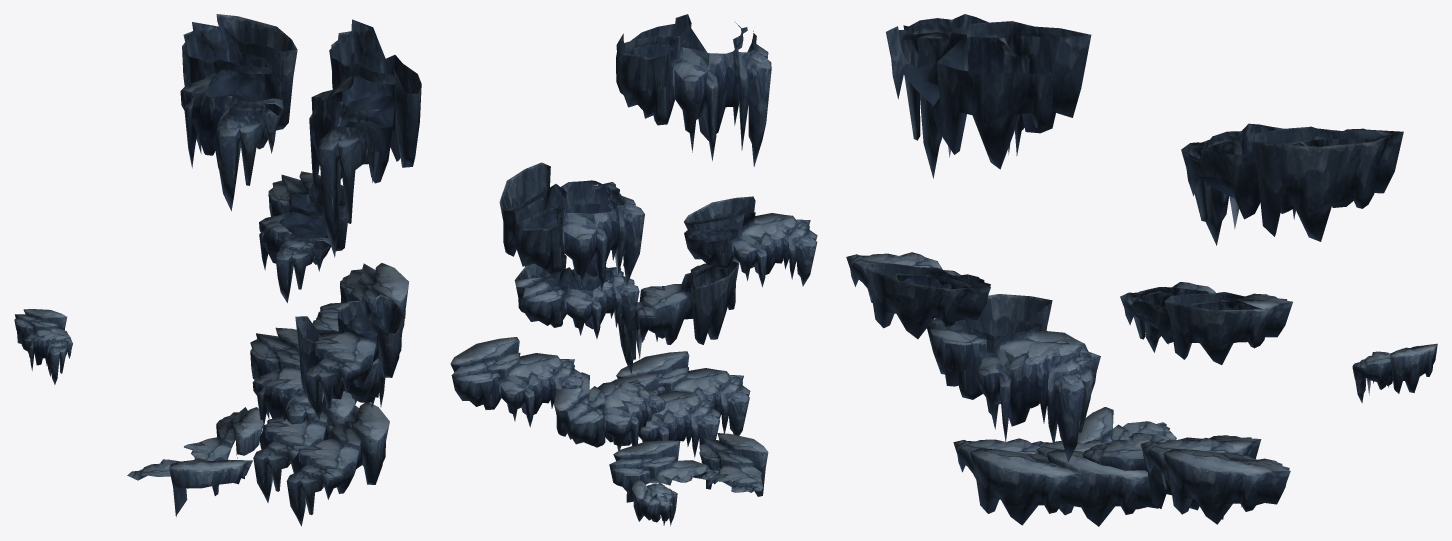
File: Area_02_1.fbx
The picture shows the model from 3 angles, left to right: view 1: azimuth 30°, elevation 25°; view 2: azimuth 150°, elevation 25°; view 3: azimuth 270°, elevation 25°; orthographic projection. The views are drawn at different scales.
Visible parts, largest first — view 1: Area_02_1; view 2: Area_02_1; view 3: Area_02_1.
Part boxes in pixels (x1=…): Area_02_1: x1=14, y1=14, x2=421, y2=526; Area_02_1: x1=450, y1=14, x2=817, y2=526; Area_02_1: x1=846, y1=14, x2=1437, y2=526.
Size of the model in its own units: 7343 by 10590 by 10691.
